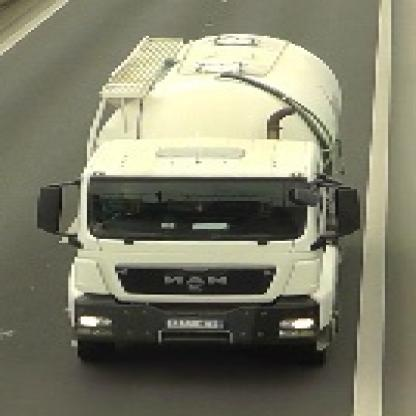truck: (38, 29, 361, 371)
